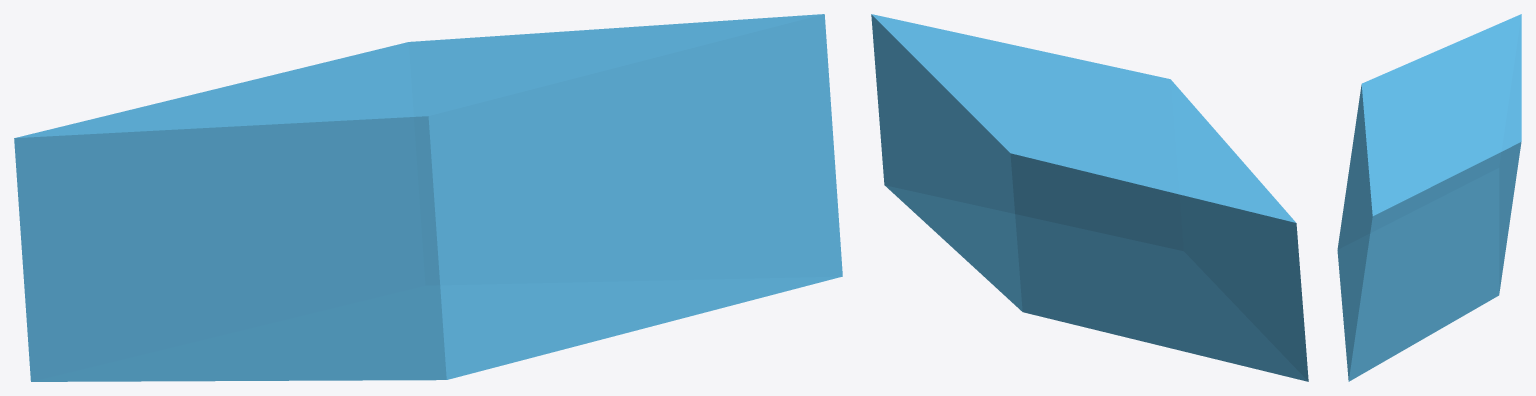
The model's file is Event_421364160_HBrechit_35.fbx.
3 renders of one model, left to right at view 1: azimuth 30°, elevation 25°; view 2: azimuth 150°, elevation 25°; view 3: azimuth 270°, elevation 25°, orthographic. The views are drawn at different scales.
Visible parts, largest first — view 1: Model; view 2: Model; view 3: Model.
Boxes of the visible parts, left/top/right/bottom form: Model: left=14, top=14, right=842, bottom=381; Model: left=871, top=14, right=1308, bottom=381; Model: left=1337, top=14, right=1521, bottom=381.
Bounding box in the file's own units: 1.26 × 0.4645 × 0.4324.
